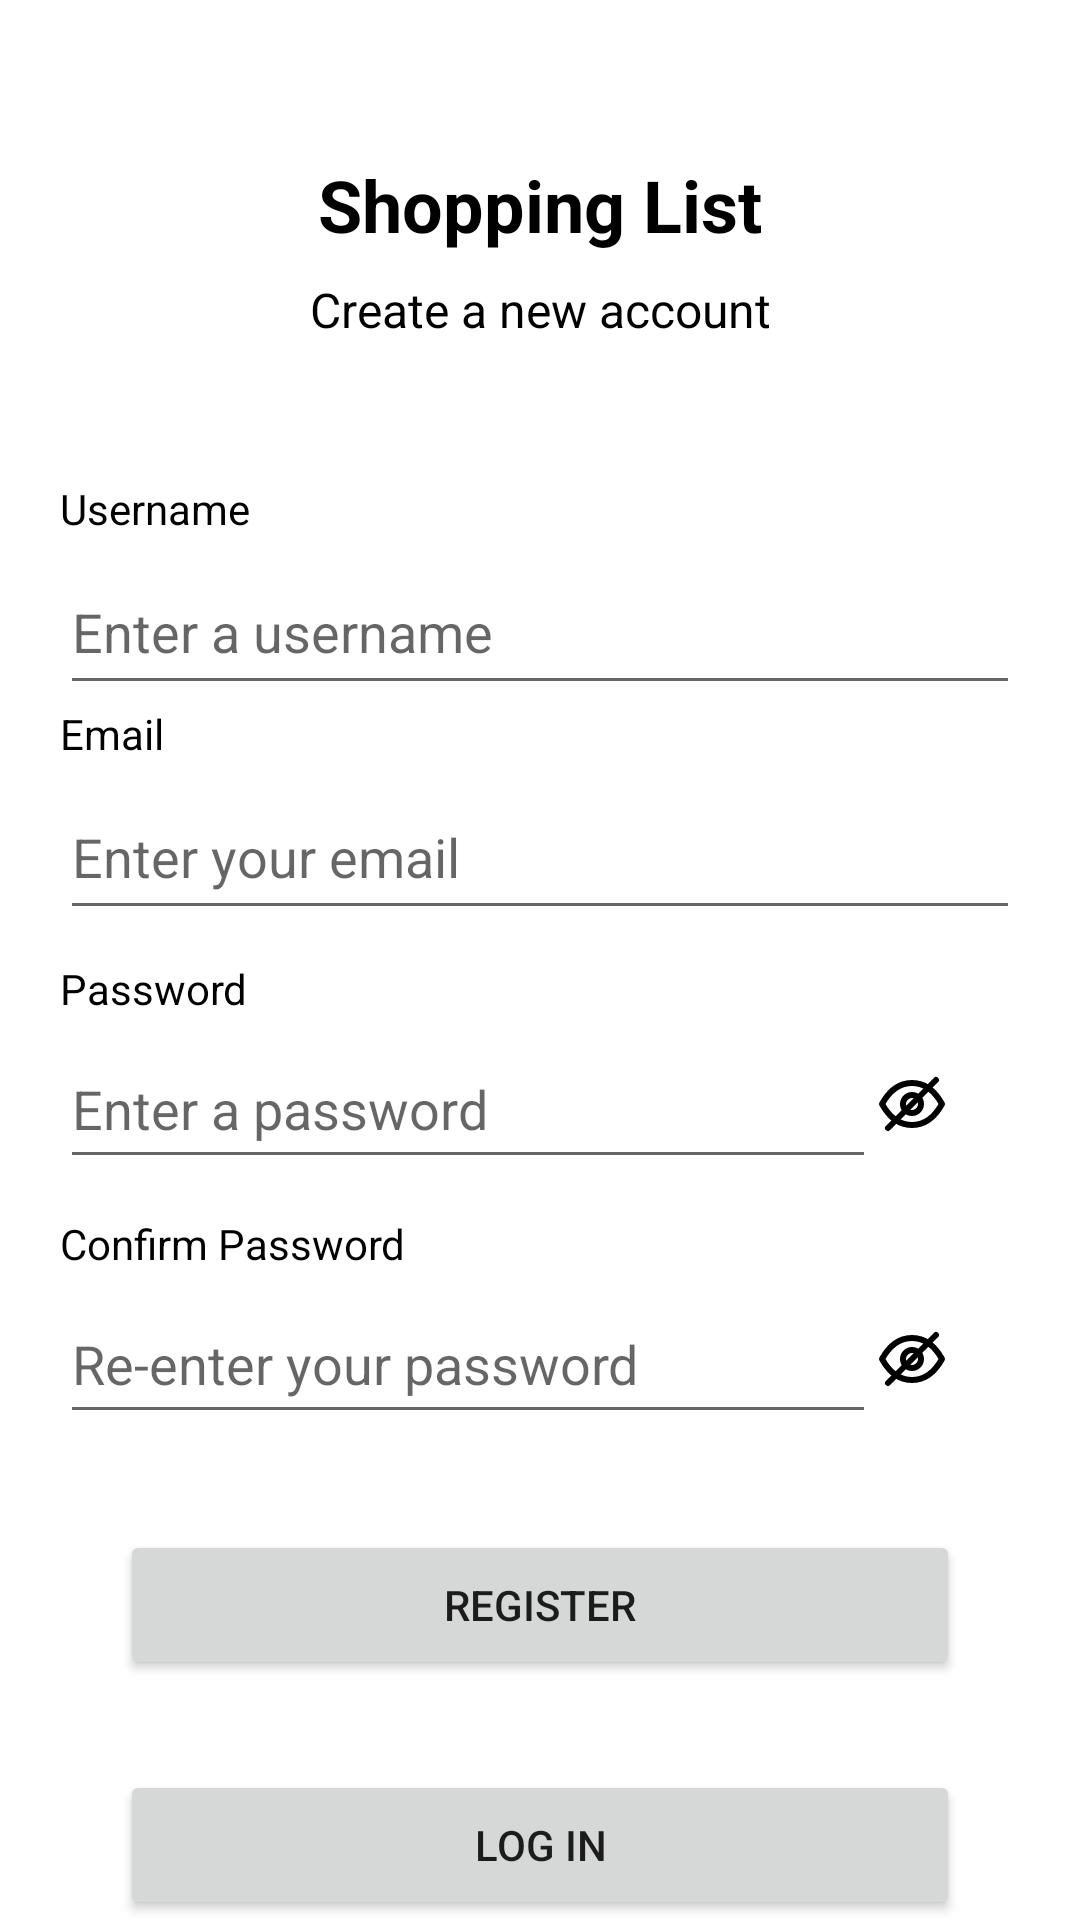

Icons on this 1080*1920 Android screen, each with the point to tap as (x,y):
Toggle visibility of the confirm password dialogue: (912,1358)
Toggle visibility of the password dialogue: (912,1103)
